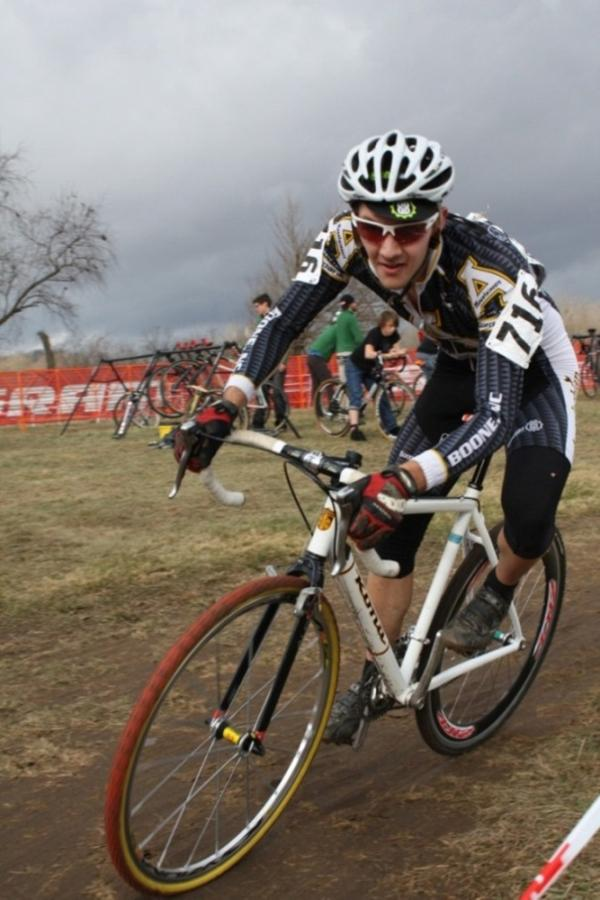person: (176, 131, 582, 741)
